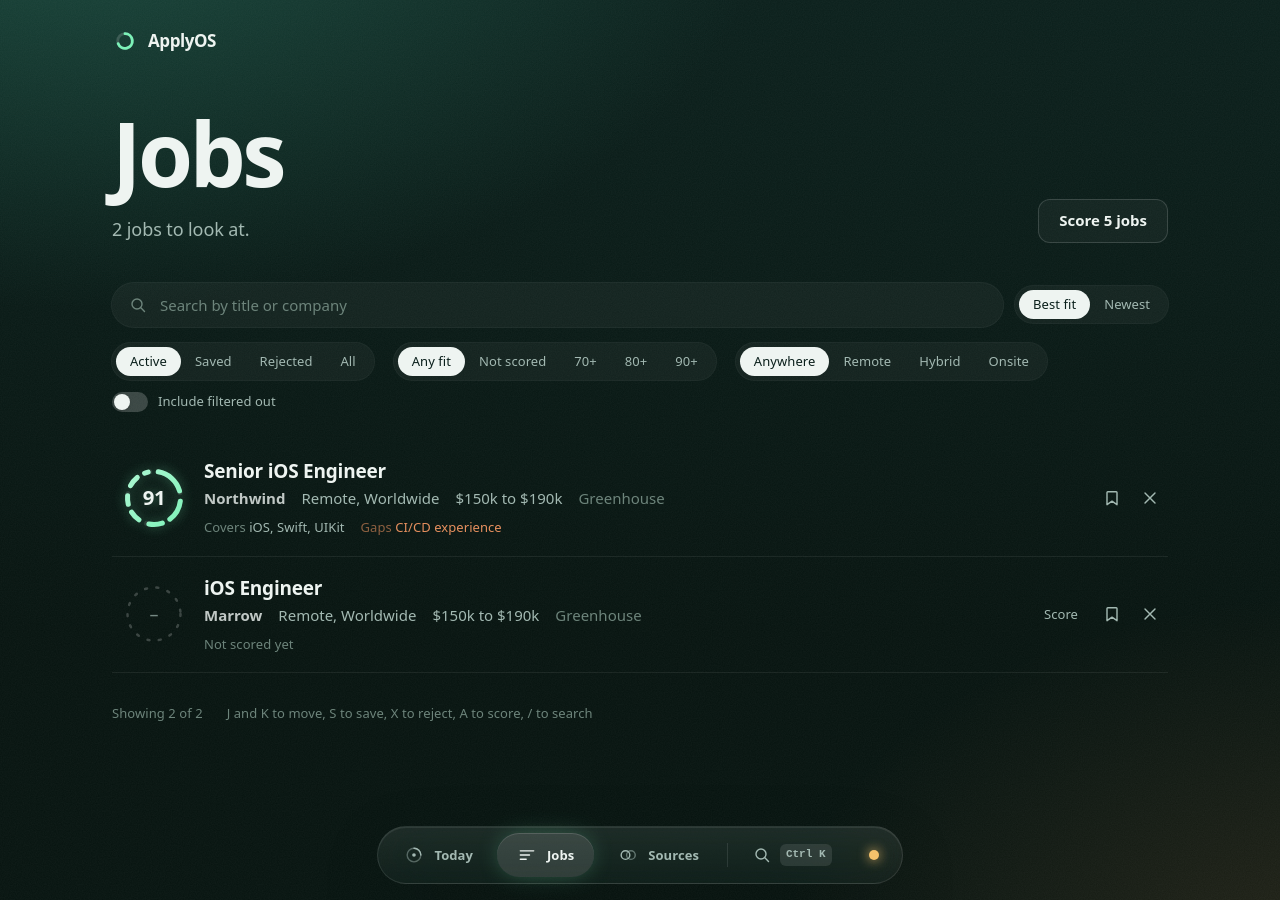
Jobs page › opens the dossier with the full analysis when a row is clicked
Click the button with aria-label "Open Senior iOS Engineer at Northwind": (599, 498) [112,460,1086,536]
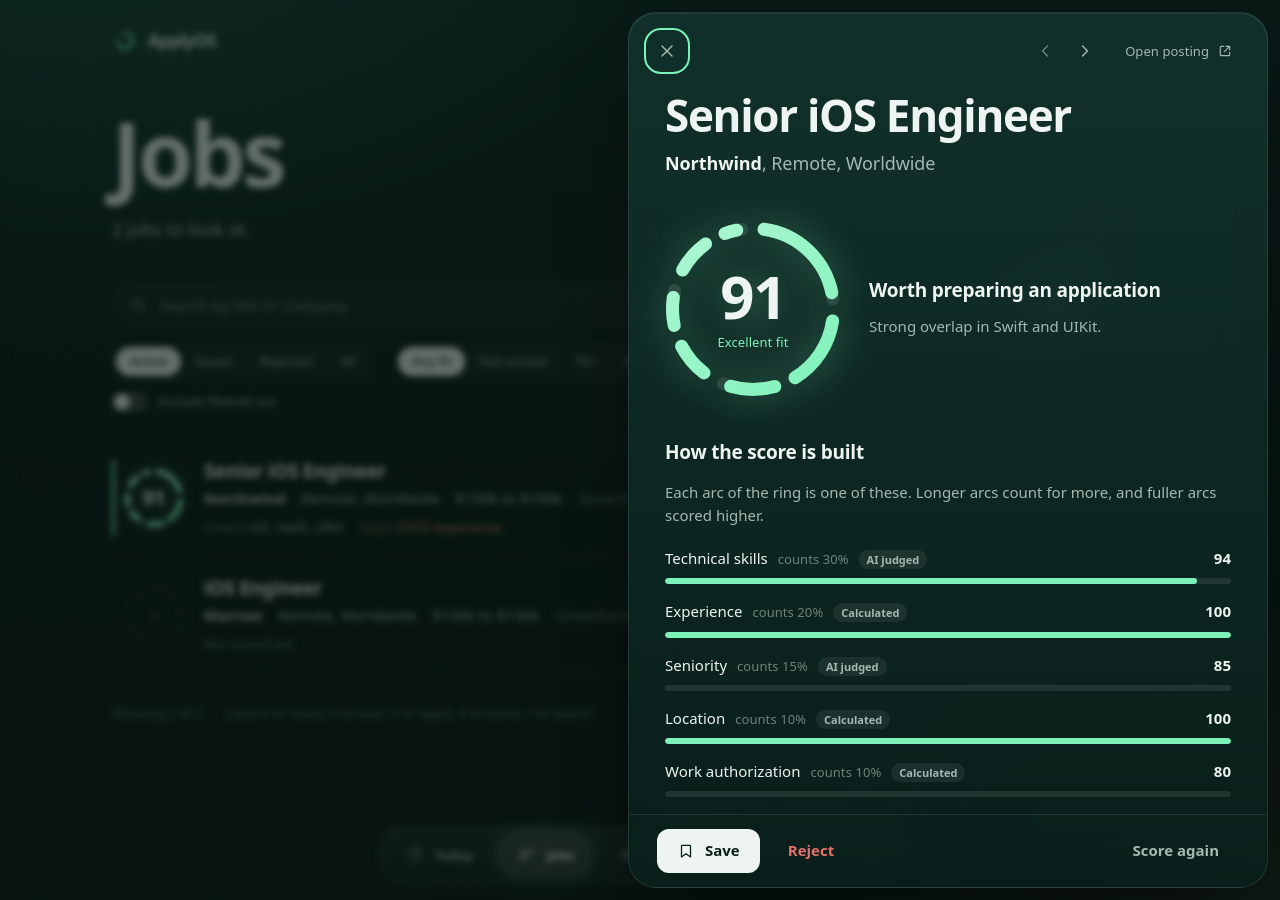
Expected: the heading "How the score is built" is shown, [665,439,864,465]
Expected: the dialog named "Senior iOS Engineer at Northwind" shows "Strong overlap in Swift and UIKit.", [869,316,1101,336]
Expected: the dialog named "Senior iOS Engineer at Northwind" shows "Worth preparing an application", [869,277,1161,303]
